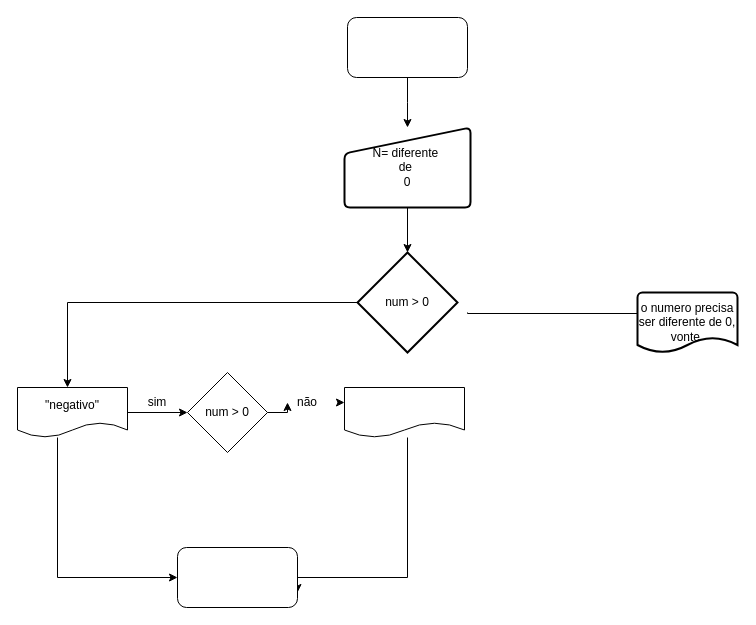
The diagram is 756 pixels wide and 625 high, and some of its shapes have lost their labels. Here are the shapes that lost their labels. From the top down, the centre of each, then its label:
the point at 407,47: Início
the point at 404,412: "positivo"
the point at 237,577: Fim
